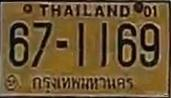1: (78, 22, 83, 66), (101, 22, 106, 66)
6: (8, 22, 28, 66), (117, 22, 135, 66)
7: (32, 21, 52, 66)
9: (139, 22, 158, 66)
BKK: (30, 73, 137, 95)
